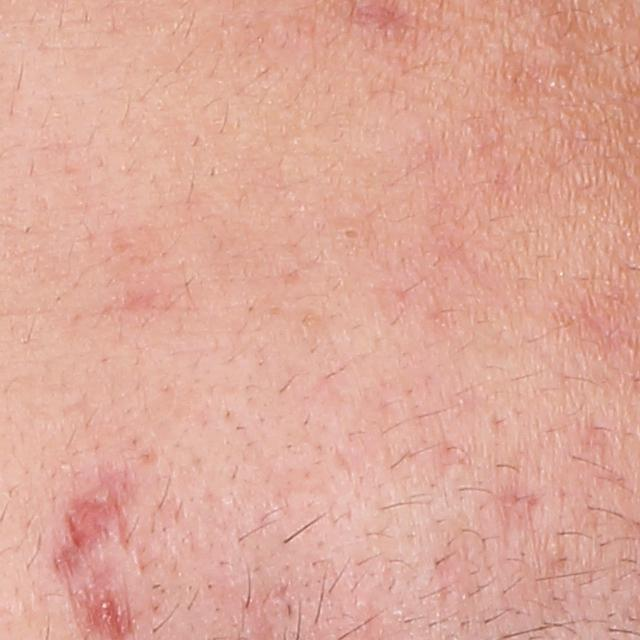comedo: (340, 223, 363, 248)
